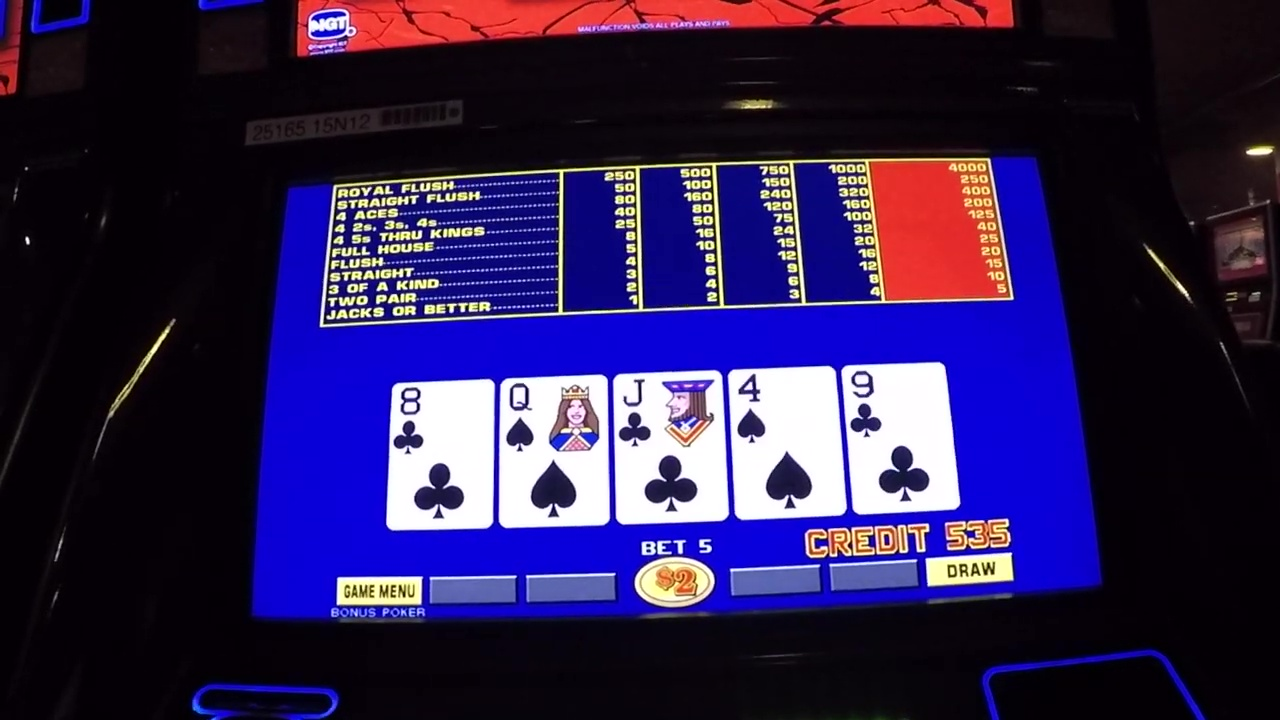C8: (393, 383, 492, 459)
C9: (850, 374, 945, 445)
CJ: (616, 376, 720, 458)
S4: (732, 371, 839, 453)
SQ: (502, 379, 606, 458)
